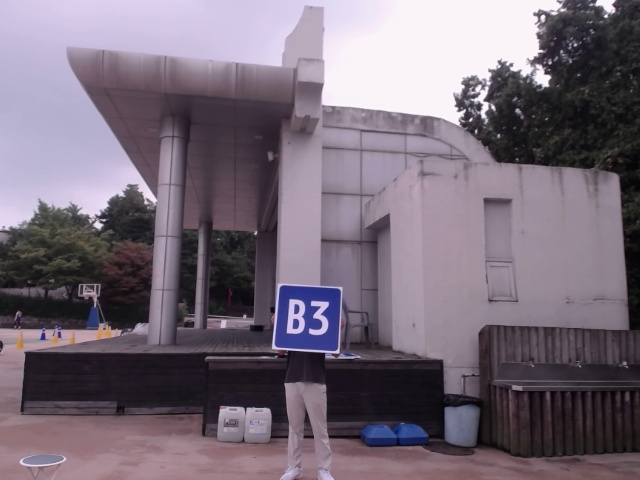delivery_b3: (280, 284, 342, 352)
